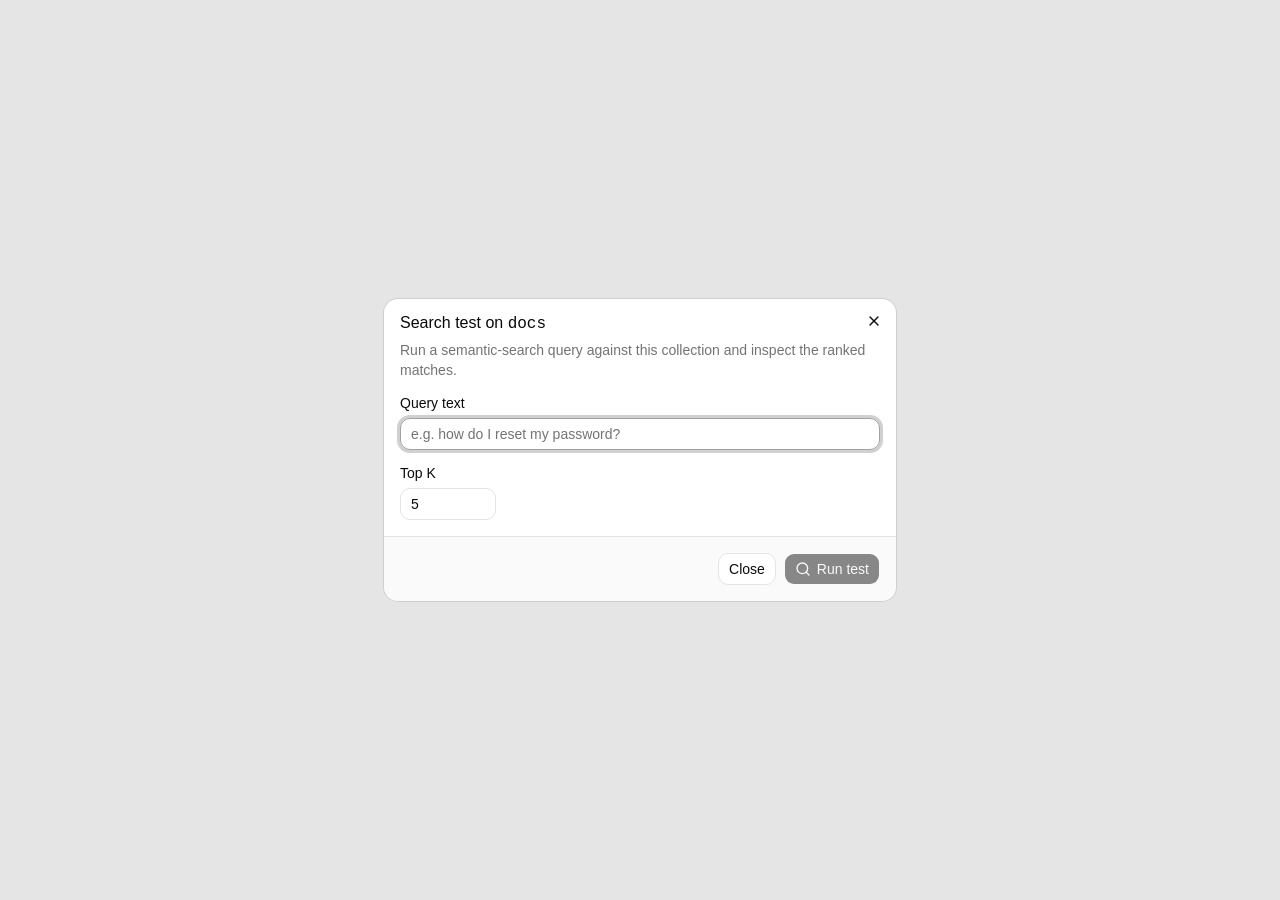
Scenario: SearchTestModal › shows the error message on an error response
In the field labelled "Query text": (640, 434) [400,418,880,450], type "hello"
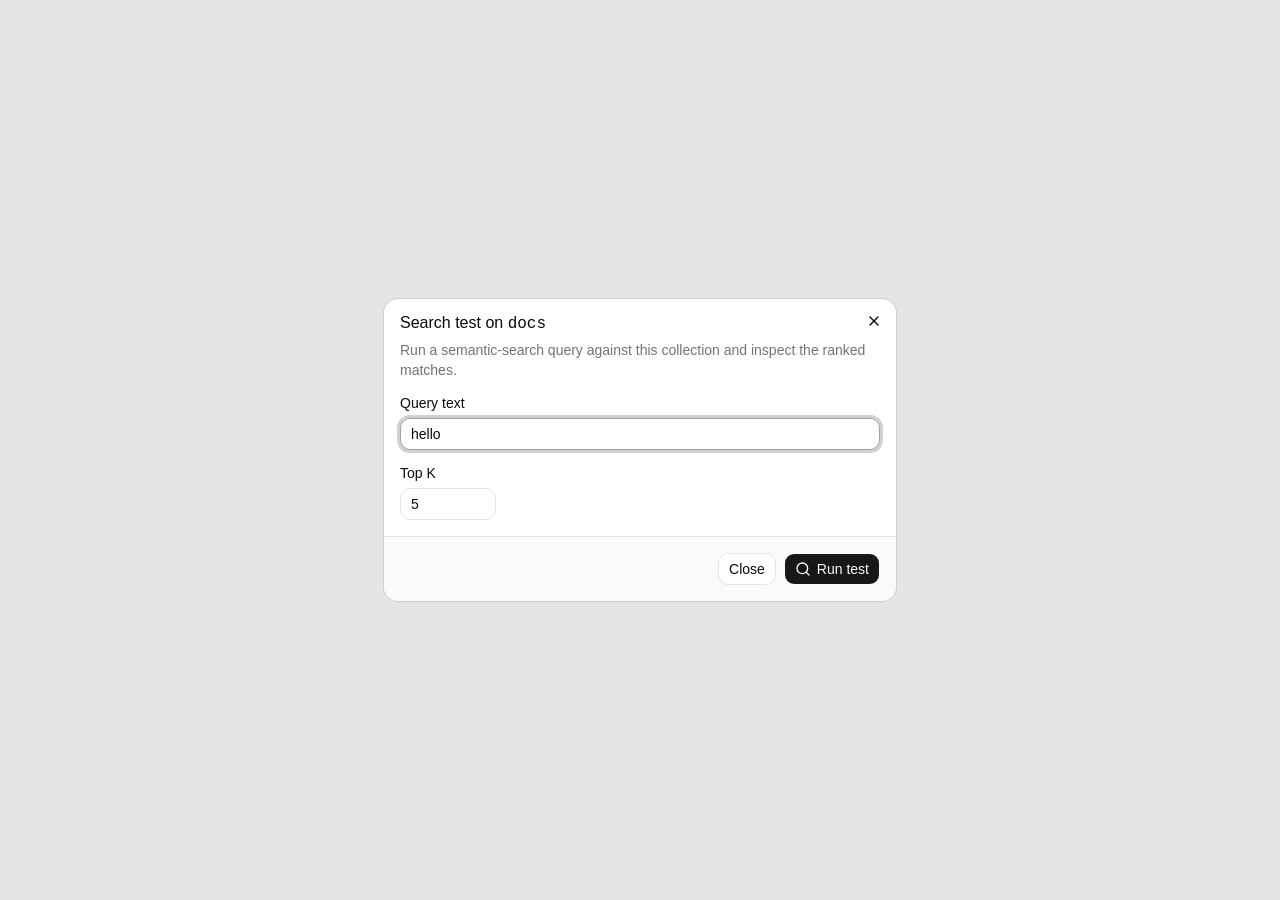
Click the button "Run test": (832, 569) [784,553,880,585]
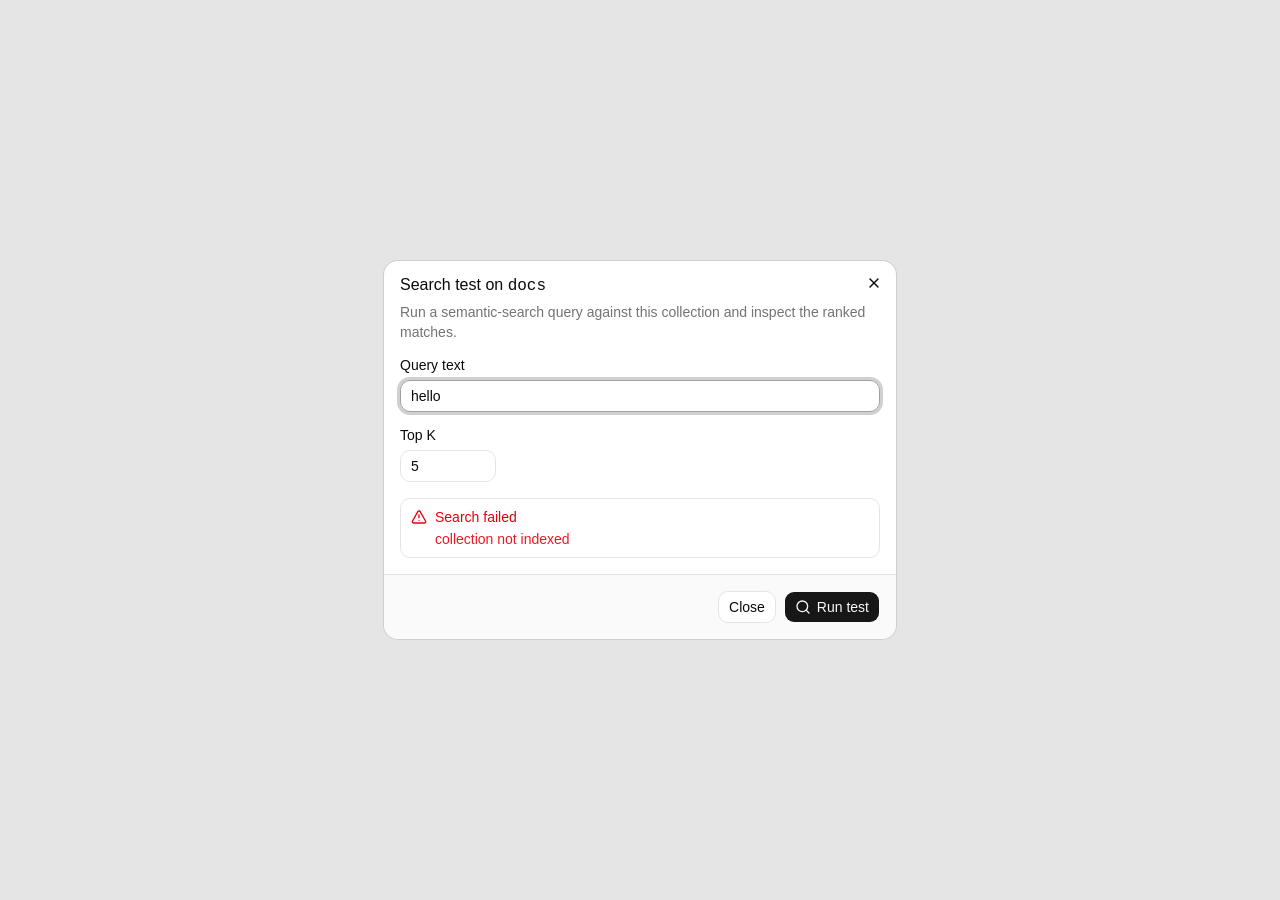
Expected: the text "collection not indexed" is shown, [435,531,570,547]
